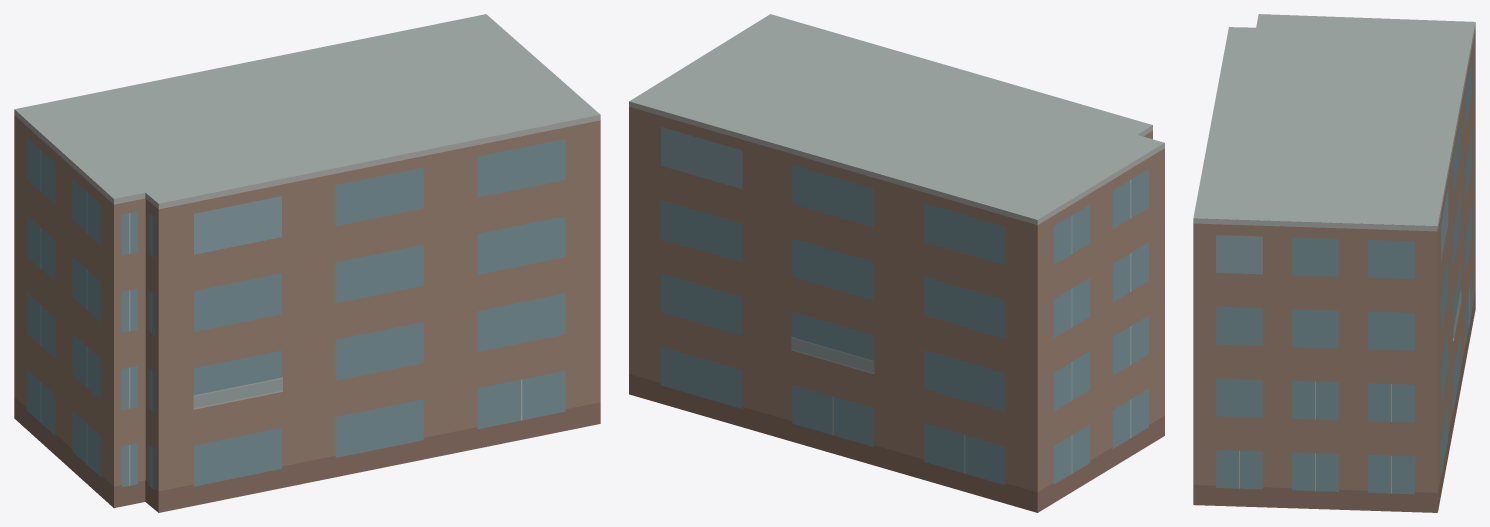
File: survey-upis-32834947.glb
3 views of the same model, side by side, from view 1: azimuth 30°, elevation 25°; view 2: azimuth 150°, elevation 25°; view 3: azimuth 270°, elevation 25° (orthographic). The views are drawn at different scales.
Parts seen in each view (by area): view 1: survey-upis-32834947.tmp; view 2: survey-upis-32834947.tmp; view 3: survey-upis-32834947.tmp.
Part boxes in pixels (bbox=[...]): survey-upis-32834947.tmp: bbox=[14, 14, 600, 512]; survey-upis-32834947.tmp: bbox=[629, 14, 1164, 512]; survey-upis-32834947.tmp: bbox=[1193, 14, 1475, 512].
Bounding box in the file's own units: 21.28 × 13.4 × 11.97.
